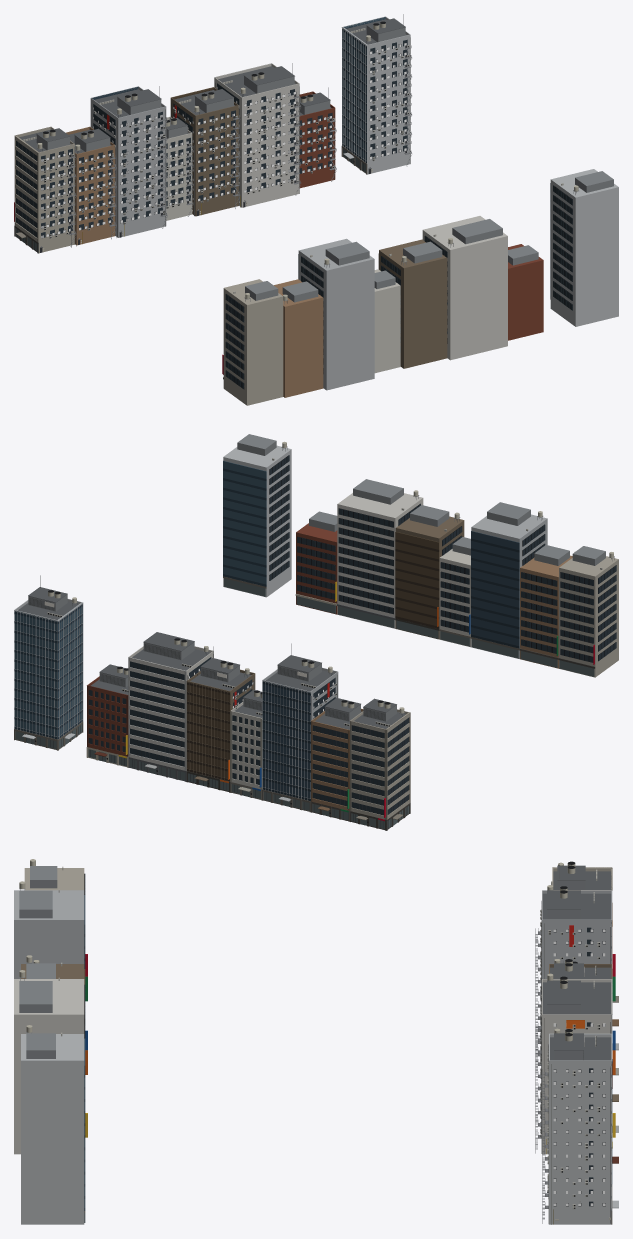
Rendered from office.glb.
3 views of the same model, one above another, from view 1: azimuth 30°, elevation 25°; view 2: azimuth 150°, elevation 25°; view 3: azimuth 270°, elevation 25° (orthographic). The views are drawn at different scales.
Visible parts, largest first — view 1: office_h_body, office_h_lo_mesh, office_e_body, office_e_lo_mesh, office_b_body, office_b_lo_mesh, office_g_body, office_g_lo_mesh, office_d_body, office_d_lo_mesh, office_a_body, office_a_lo_mesh (+4 smaller); view 2: office_h_body, office_h_lo_mesh, office_e_lo_mesh, office_e_body, office_b_lo_mesh, office_b_body, office_g_body, office_g_lo_mesh, office_d_lo_mesh, office_d_body, office_a_body, office_a_lo_mesh (+4 smaller); view 3: office_h_body, office_h_lo_mesh, office_b_body, office_b_lo_mesh, office_e_body, office_e_lo_mesh, office_g_lo_mesh, office_g_body, office_d_lo_mesh, office_d_body.
Part boxes in pixels (x1=…): office_h_body: x1=341, y1=14, x2=411, y2=174; office_h_lo_mesh: x1=550, y1=169, x2=618, y2=326; office_e_body: x1=214, y1=63, x2=300, y2=207; office_e_lo_mesh: x1=422, y1=216, x2=507, y2=360; office_b_body: x1=90, y1=86, x2=167, y2=237; office_b_lo_mesh: x1=298, y1=238, x2=374, y2=390; office_g_body: x1=14, y1=126, x2=76, y2=253; office_g_lo_mesh: x1=222, y1=279, x2=283, y2=405; office_d_body: x1=170, y1=87, x2=240, y2=216; office_d_lo_mesh: x1=378, y1=239, x2=447, y2=368; office_a_body: x1=66, y1=126, x2=116, y2=245; office_a_lo_mesh: x1=274, y1=279, x2=323, y2=397; office_h_body: x1=14, y1=575, x2=83, y2=750; office_h_lo_mesh: x1=223, y1=434, x2=291, y2=597; office_e_lo_mesh: x1=337, y1=479, x2=423, y2=628; office_e_body: x1=128, y1=632, x2=213, y2=781; office_b_lo_mesh: x1=471, y1=502, x2=547, y2=658; office_b_body: x1=262, y1=643, x2=338, y2=812; office_g_body: x1=350, y1=698, x2=410, y2=830; office_g_lo_mesh: x1=558, y1=546, x2=618, y2=677; office_d_lo_mesh: x1=395, y1=505, x2=464, y2=639; office_d_body: x1=186, y1=646, x2=255, y2=792; office_a_body: x1=310, y1=686, x2=363, y2=821; office_a_lo_mesh: x1=519, y1=545, x2=574, y2=668; office_h_body: x1=542, y1=1028, x2=618, y2=1224; office_h_lo_mesh: x1=21, y1=1025, x2=85, y2=1224; office_b_body: x1=535, y1=885, x2=618, y2=1066; office_b_lo_mesh: x1=14, y1=881, x2=85, y2=978; office_e_body: x1=535, y1=973, x2=618, y2=1154; office_e_lo_mesh: x1=14, y1=970, x2=85, y2=1154; office_g_lo_mesh: x1=24, y1=859, x2=87, y2=976; office_g_body: x1=551, y1=861, x2=618, y2=1002; office_d_lo_mesh: x1=21, y1=955, x2=87, y2=1074; office_d_body: x1=549, y1=959, x2=618, y2=1101.
Bounding box in the file's own units: 157 × 59.12 × 172.
